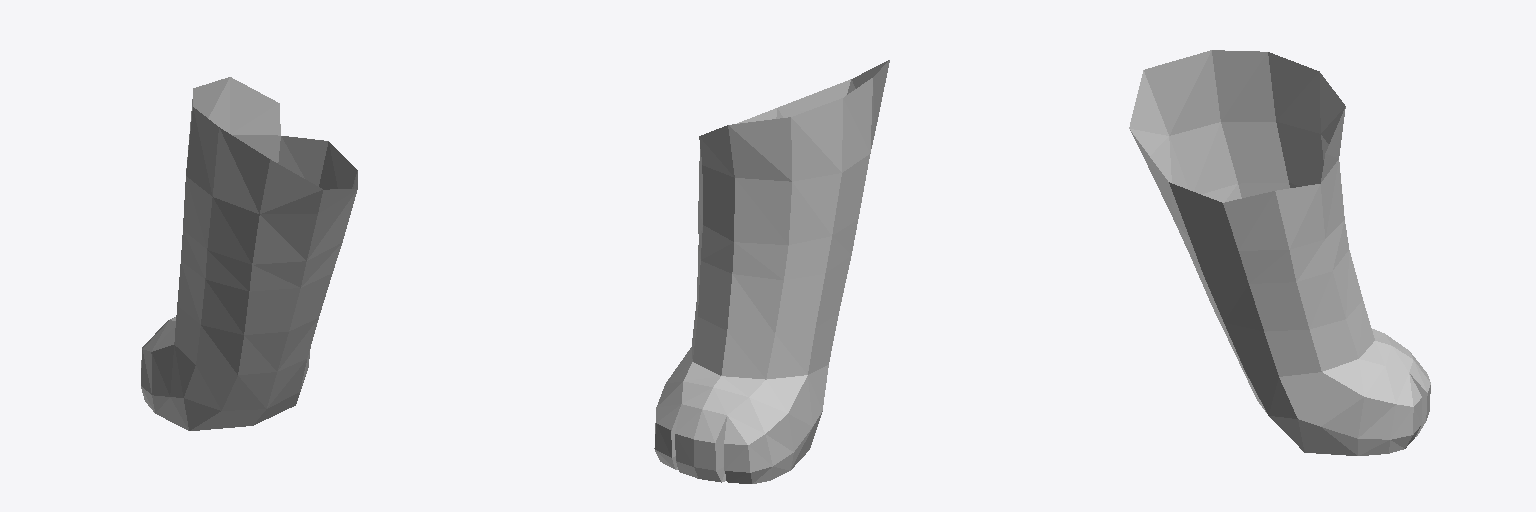
Rendered from izqDelanEevee.obj.
3 views of the same model, side by side, from view 1: azimuth 30°, elevation 25°; view 2: azimuth 150°, elevation 25°; view 3: azimuth 270°, elevation 25° (orthographic).
Parts seen in each view (by area): view 1: LArm, LForeArm, LHand, Spine1, izqDelantera_Material__12.001; view 2: LArm, LForeArm, LHand, Spine1; view 3: LArm, LForeArm, LHand, izqDelantera_Material__12.001, Spine1.
Boxes of the visible parts, <box> form: LArm: <box>183,77,357,264</box>; LForeArm: <box>174,230,342,374</box>; LHand: <box>141,317,310,430</box>; Spine1: <box>260,159,357,213</box>; izqDelantera_Material__12.001: <box>319,142,357,189</box>; LArm: <box>698,60,889,244</box>; LForeArm: <box>692,206,857,379</box>; LHand: <box>654,347,828,483</box>; Spine1: <box>737,60,888,123</box>; LArm: <box>1130,50,1345,250</box>; LForeArm: <box>1174,183,1374,376</box>; LHand: <box>1237,329,1430,455</box>; izqDelantera_Material__12.001: <box>1223,191,1288,250</box>; Spine1: <box>1129,70,1221,239</box>.
Bounding box in the file's own units: 4.57 × 10.26 × 8.2.